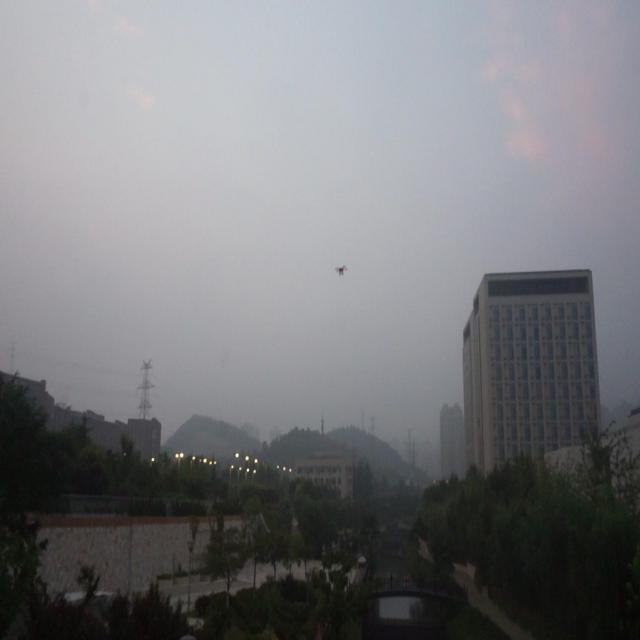UAV: (334, 265, 348, 276)
